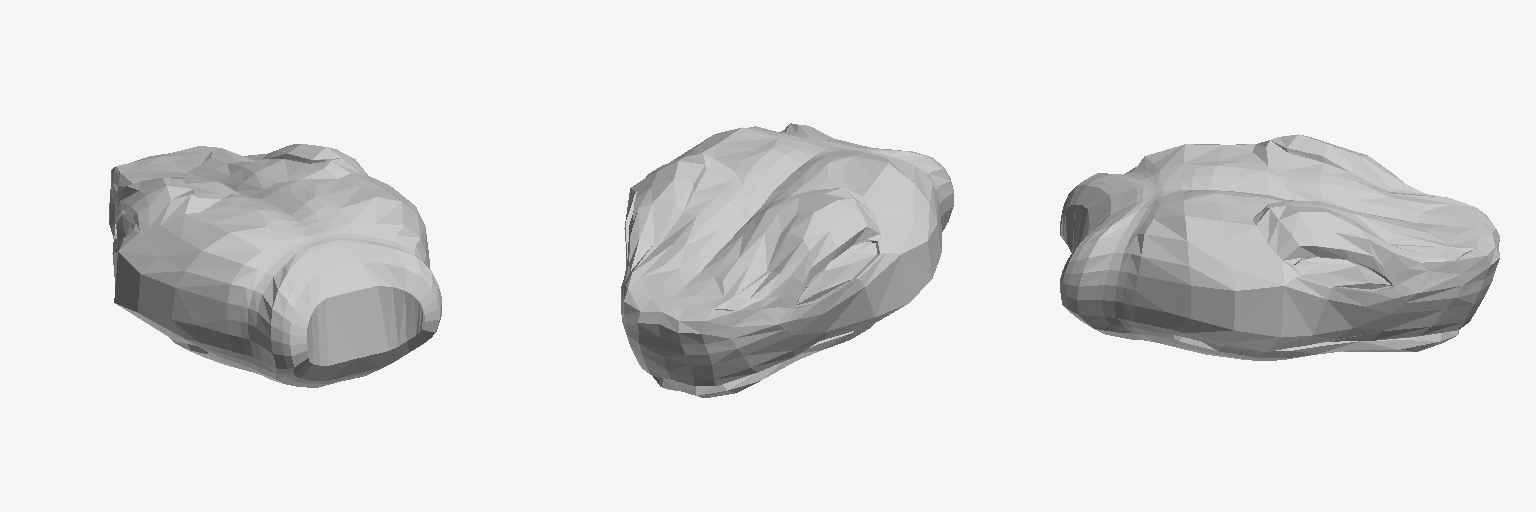
File: snak_head_still.obj
3 views of the same model, side by side, from view 1: azimuth 30°, elevation 25°; view 2: azimuth 150°, elevation 25°; view 3: azimuth 270°, elevation 25° (orthographic).
Visible parts, largest first — view 1: Teeth; view 2: Teeth; view 3: Teeth.
Boxes of the visible parts, box(x1,y1,x2,y2) form: Teeth: box(109, 144, 441, 387); Teeth: box(621, 123, 953, 397); Teeth: box(1060, 134, 1499, 360).
Size of the model in its own units: 1.6 by 0.8929 by 2.16.